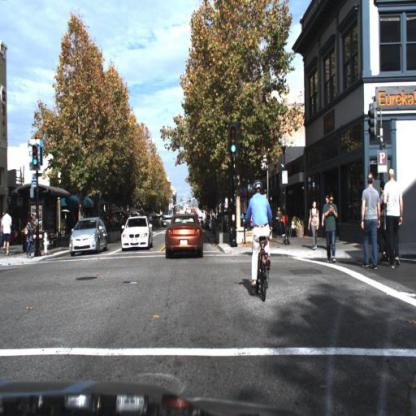biker: (246, 178, 275, 307)
car: (165, 210, 206, 261), (70, 215, 108, 259), (122, 214, 154, 250)
pedestrian: (360, 171, 382, 269), (383, 168, 404, 268), (360, 176, 381, 272), (322, 194, 340, 265), (308, 200, 323, 255), (25, 217, 37, 264), (23, 218, 37, 258), (2, 211, 12, 258), (290, 214, 300, 238)
trafficLight: (229, 125, 240, 156), (32, 147, 40, 169)
trafficLight-Green: (32, 144, 41, 169)
